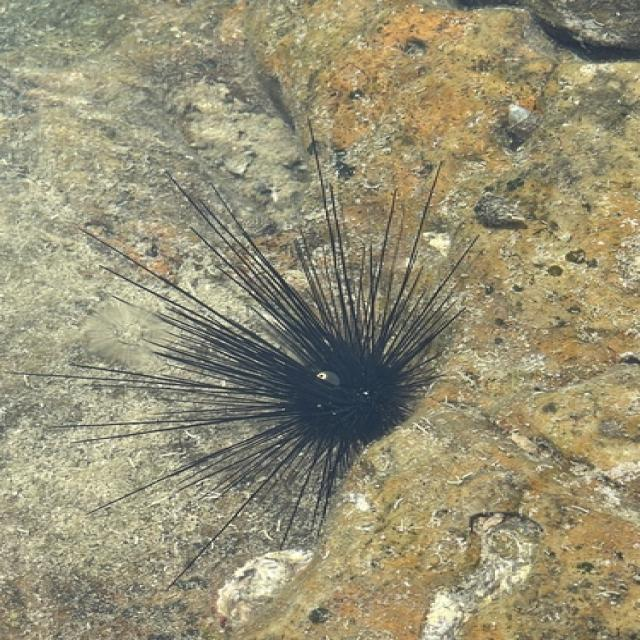Urchin: (12, 120, 473, 546)
